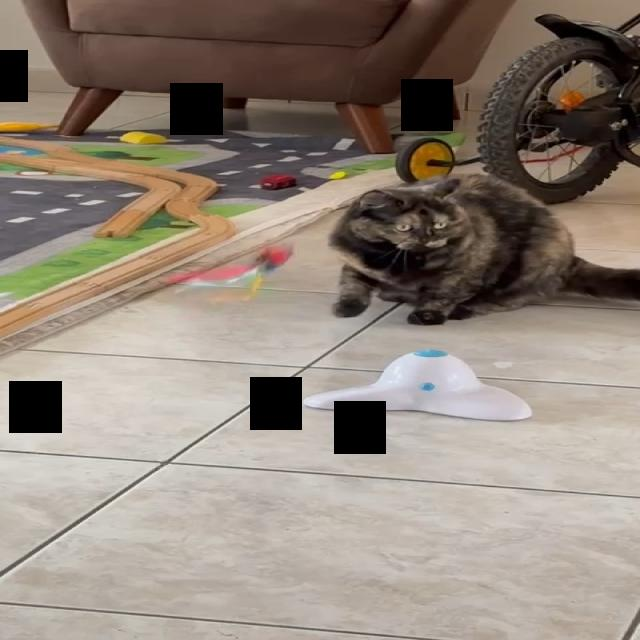authorized: (326, 172, 638, 325)
